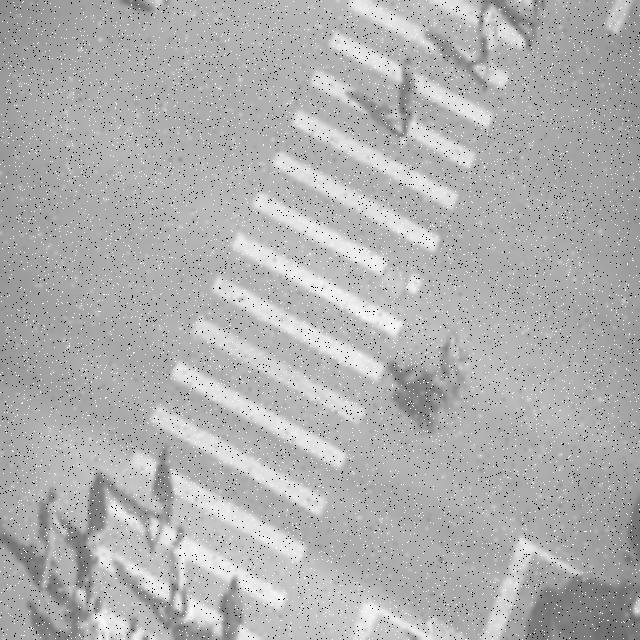Pedestrian crosswalk: (44, 0, 547, 637)
